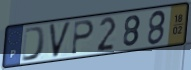2: (96, 15, 118, 54)
8: (146, 9, 167, 47), (122, 14, 142, 48)
D: (20, 25, 47, 63)
P: (70, 19, 96, 56)
V: (48, 20, 74, 60)
